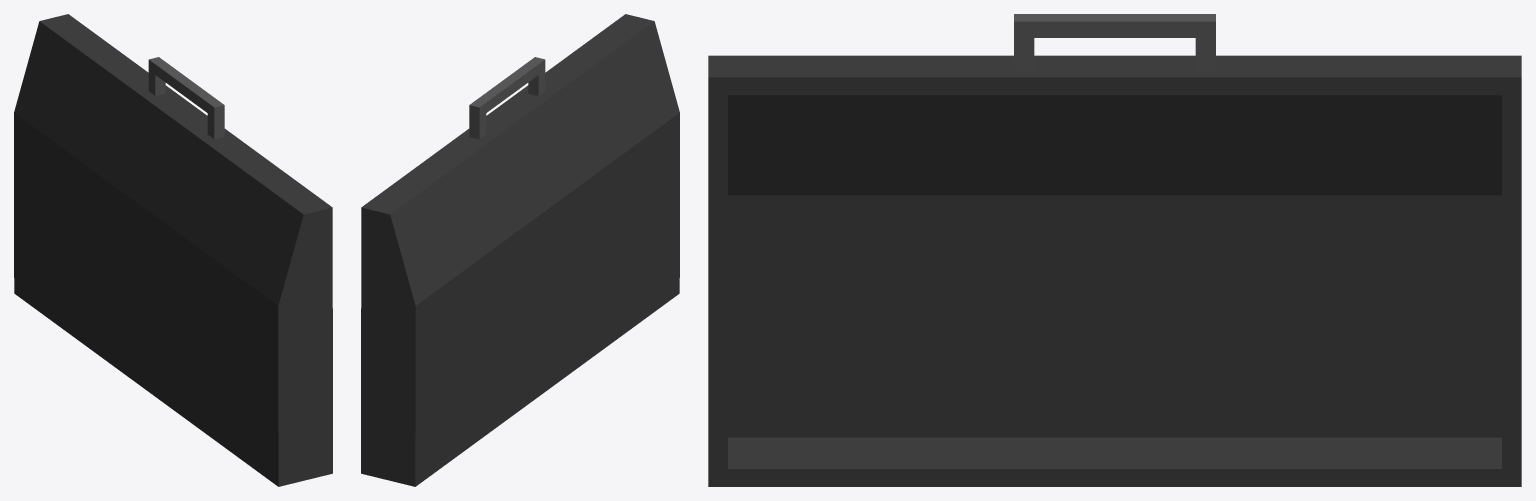
Rendered from Grill_01_02.fbx.
The picture shows the model from 3 angles, left to right: view 1: azimuth 30°, elevation 25°; view 2: azimuth 150°, elevation 25°; view 3: azimuth 270°, elevation 25°; orthographic projection. The views are drawn at different scales.
Visible parts, largest first — view 1: Grill_01_02; view 2: Grill_01_02; view 3: Grill_01_02.
Boxes of the visible parts, <box> form: Grill_01_02: <box>14,14,332,486</box>; Grill_01_02: <box>361,14,679,486</box>; Grill_01_02: <box>708,14,1521,486</box>.
Size of the model in its own units: 10.72 by 56 by 90.
